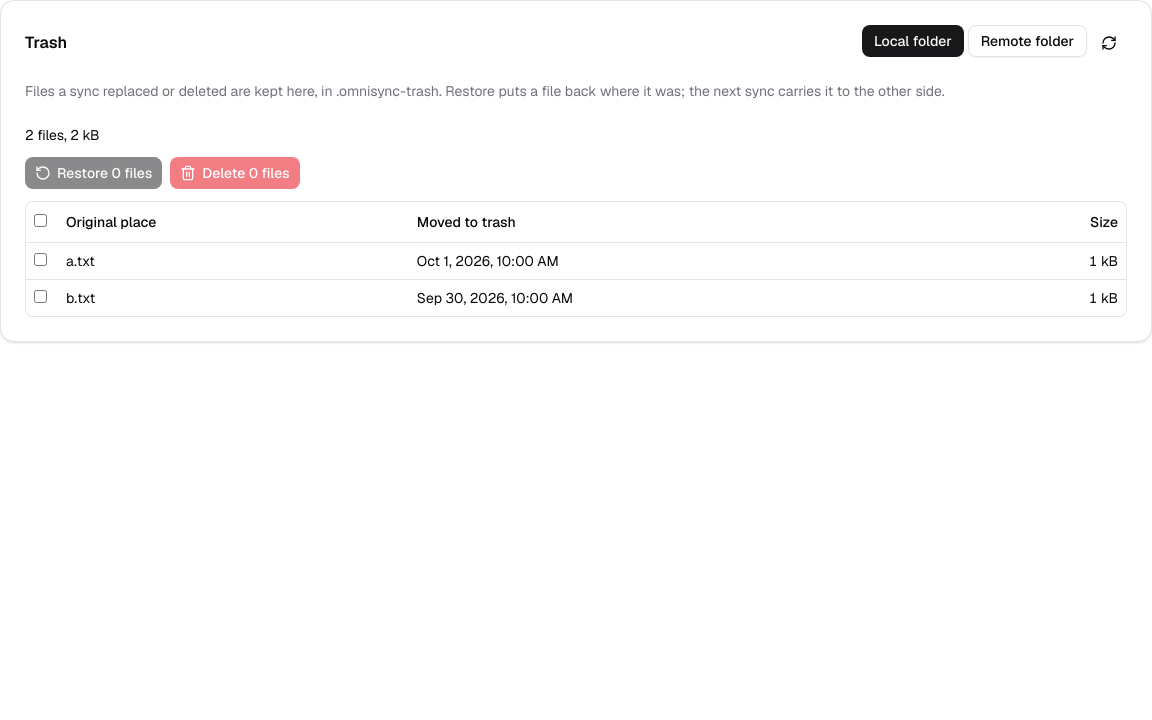
TrashPanel selection and restore › cancelling the replace question replaces nothing
Click the checkbox named "Select a.txt".
click(40, 259)  # box [34,252,47,266]
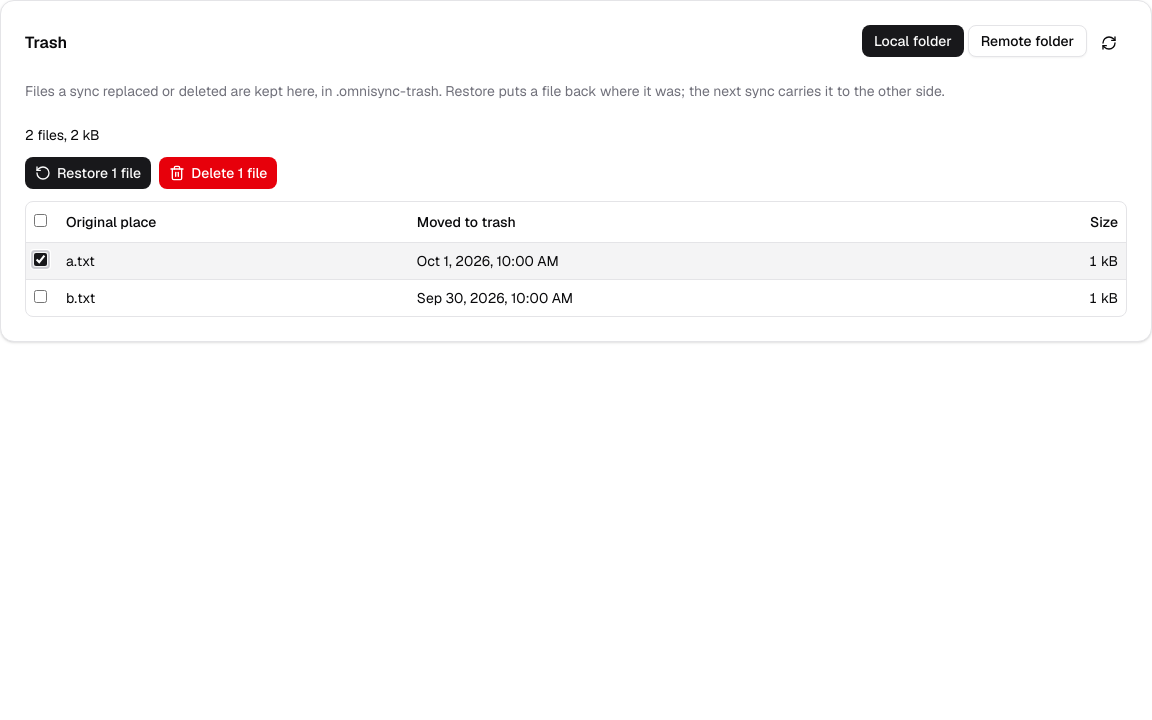
Click the button "Restore 1 file".
click(88, 173)  # box [25,157,151,189]
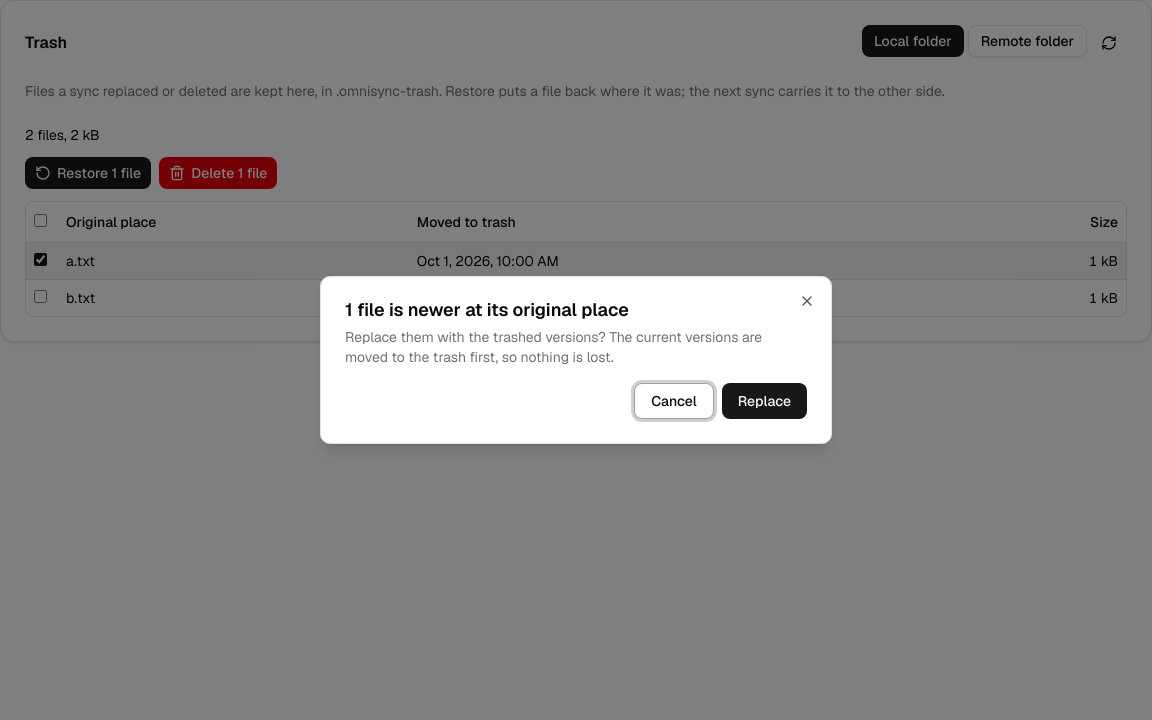
Click the button "Cancel".
click(674, 401)  # box [634,383,714,419]
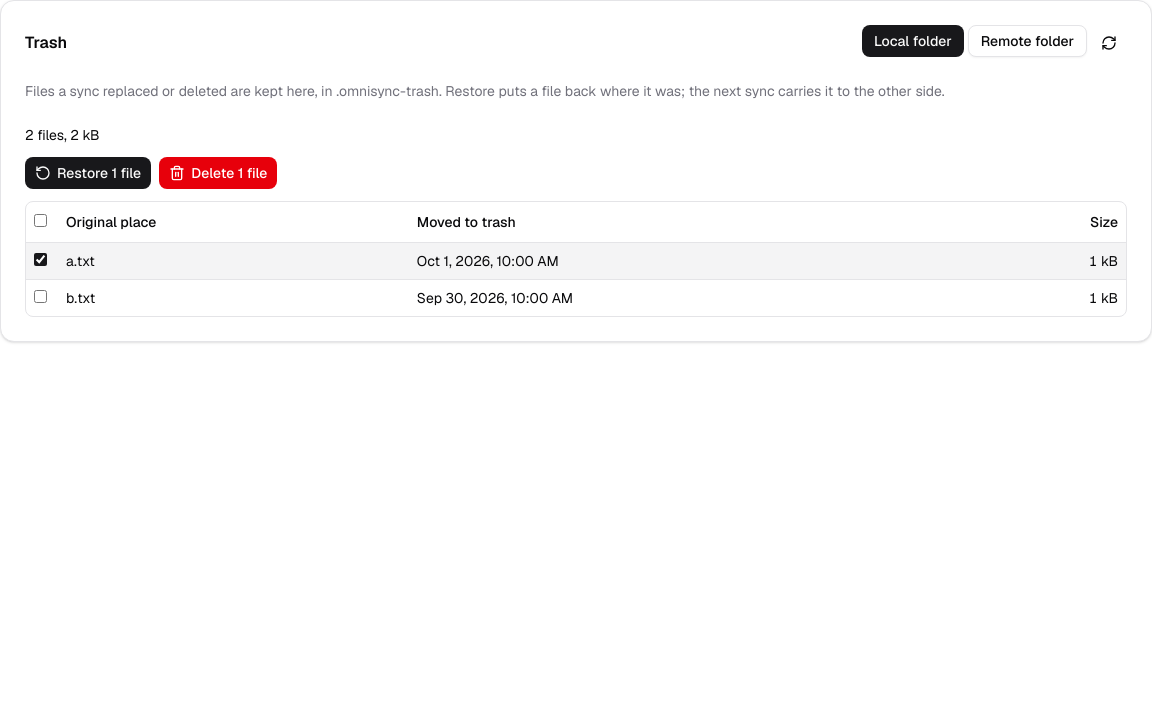
Expected: the dialog is gone
